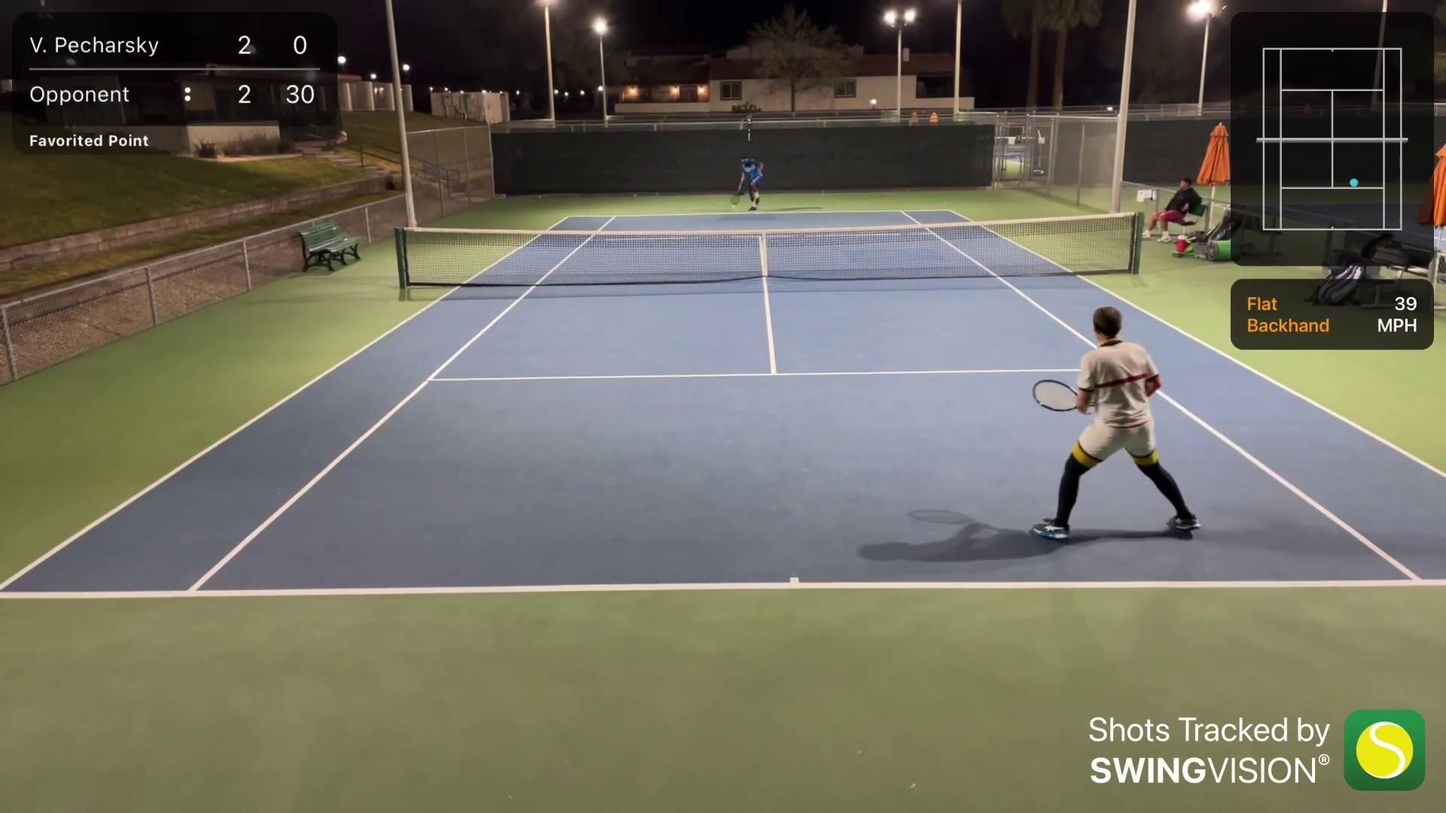ball: (728, 201, 740, 213), (534, 194, 548, 201), (630, 192, 639, 198)
